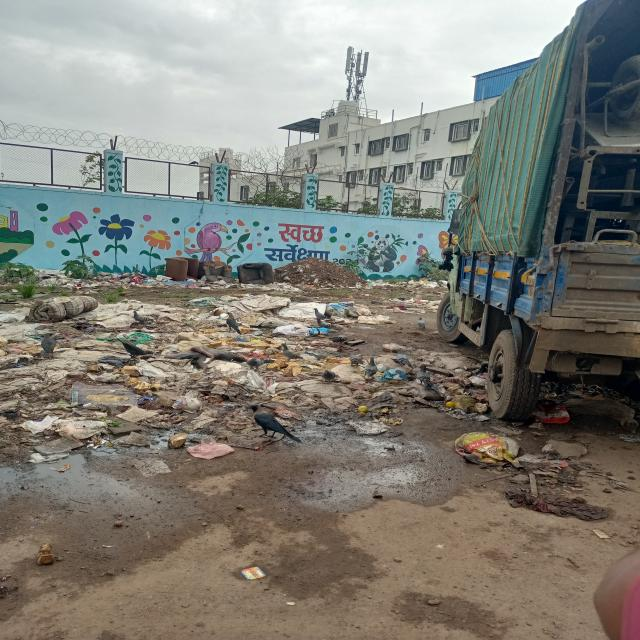garbage: (0, 297, 361, 436), (363, 347, 492, 431), (162, 258, 288, 292), (3, 265, 156, 290), (292, 259, 371, 289), (368, 278, 448, 288)
